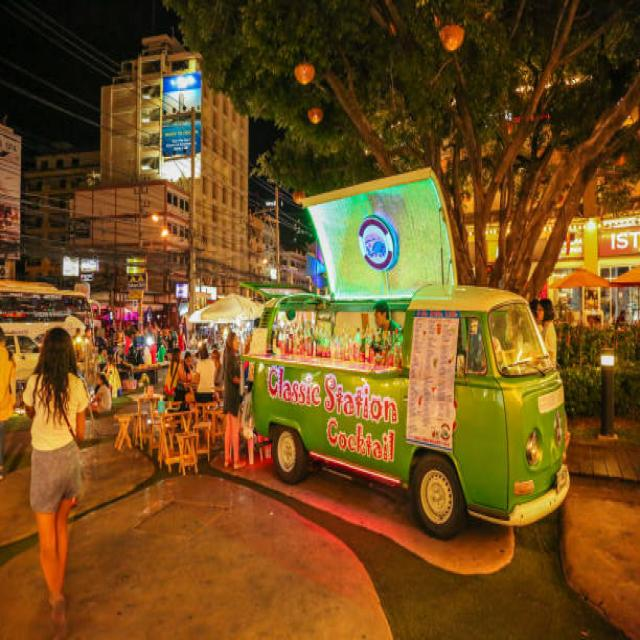Emperan: (229, 167, 594, 548)
